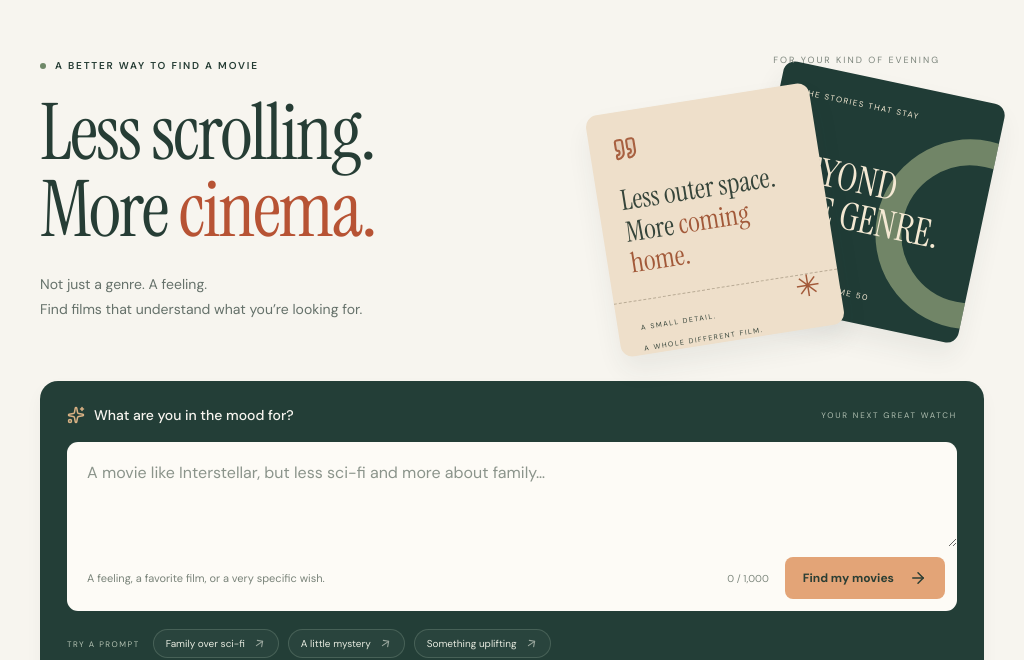
Test: recommendation experience › validates input, submits a request, and displays an evidence-limited empty result
Click the button "Find my movies" at (865, 578), box x1=785 y1=557 x2=945 y2=599
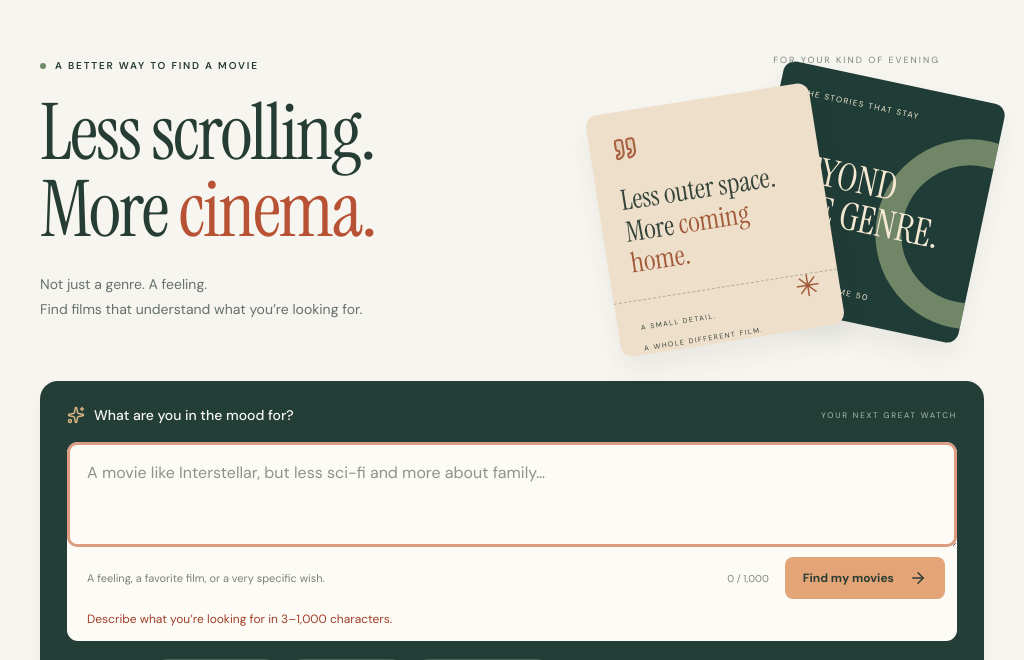
Expected: the message shows "3–1,000", x1=87 y1=611 x2=392 y2=627
Type "Family bonds" into the text box at (512, 495), box x1=67 y1=442 x2=957 y2=547
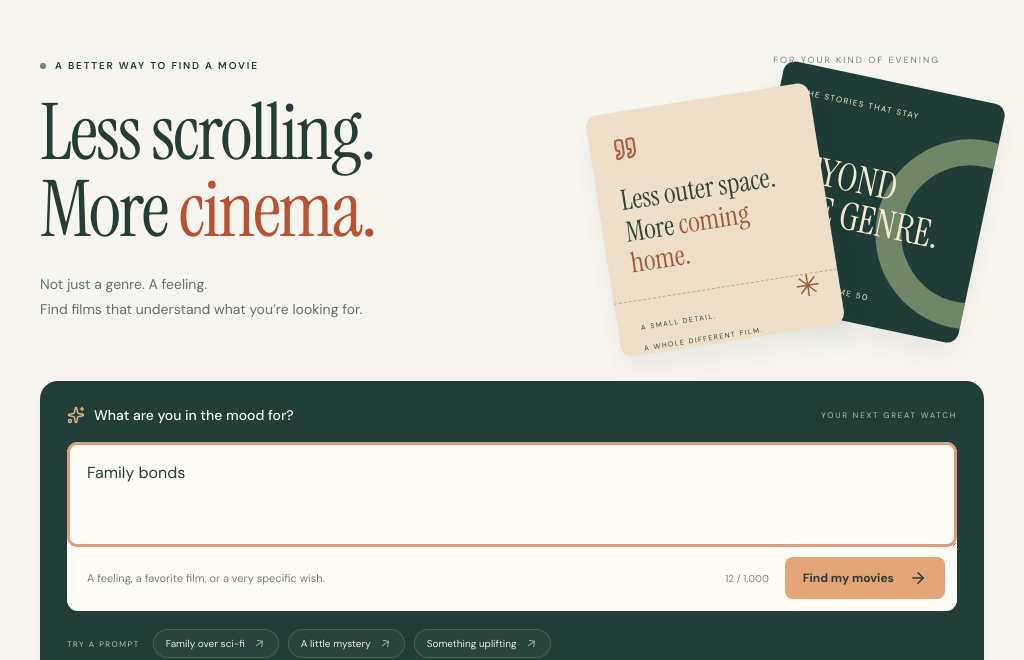
Click the button "Find my movies" at (865, 578), box x1=785 y1=557 x2=945 y2=599
(page scrolled)
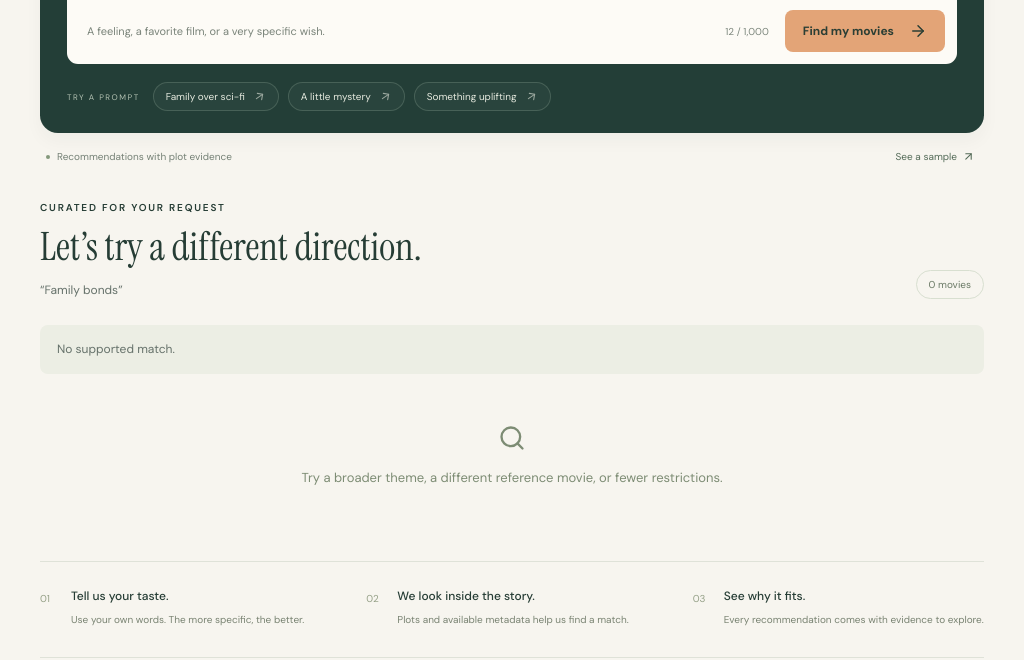
Expected: the text "No supported match." is shown, x1=40 y1=325 x2=984 y2=374
Expected: the text "0 movies" is shown, x1=916 y1=270 x2=984 y2=299
